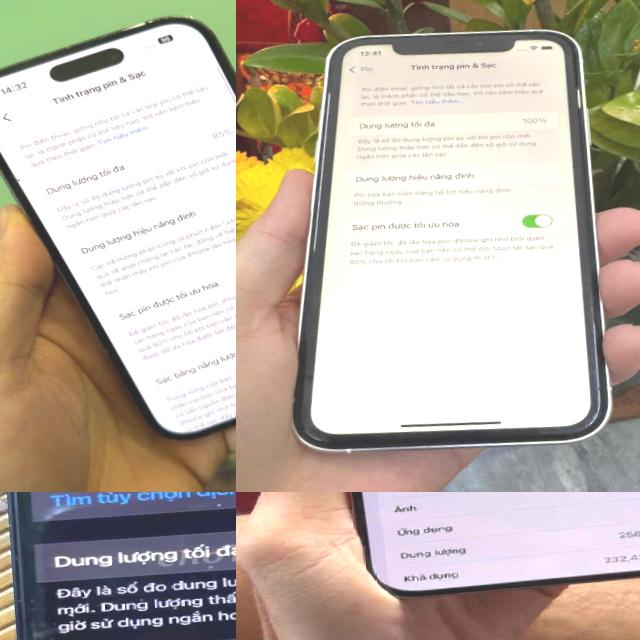gen_12_13: (0, 492, 236, 640)
gen_15: (0, 0, 236, 453)
gen_16: (298, 492, 640, 606)
gen_x_xs: (262, 16, 618, 467)
screen_defect: (13, 174, 24, 187)
